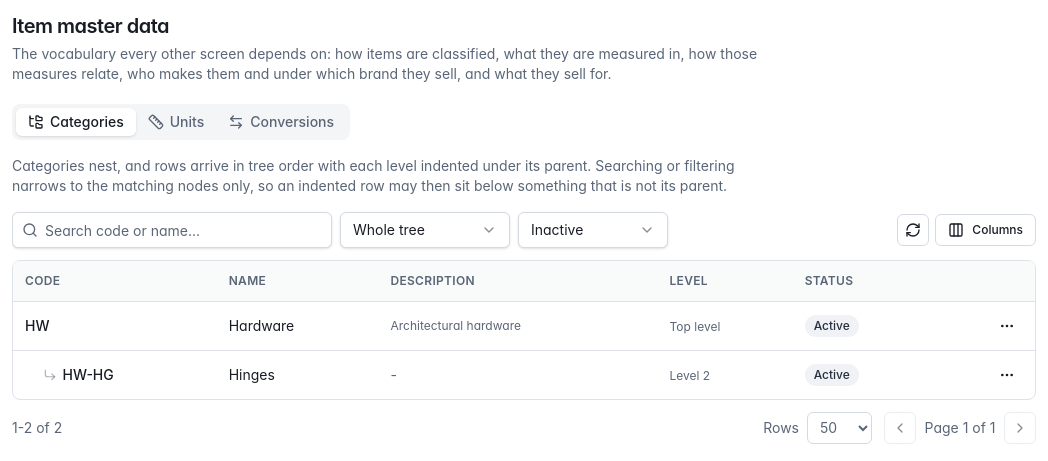
which tabs exist › drops one tab filters when switching to another
Expected: the text "Hinges" is shown, x1=229 y1=366 x2=275 y2=382
Click the tab "Units".
click(176, 122)  # box x1=136 y1=108 x2=216 y2=136
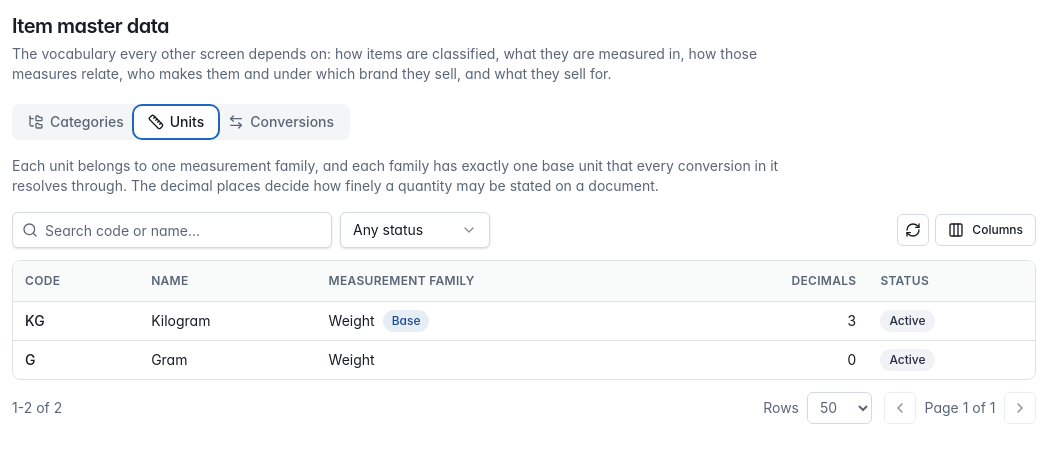
Now the text "Kilogram" is shown, box x1=139 y1=301 x2=316 y2=340
